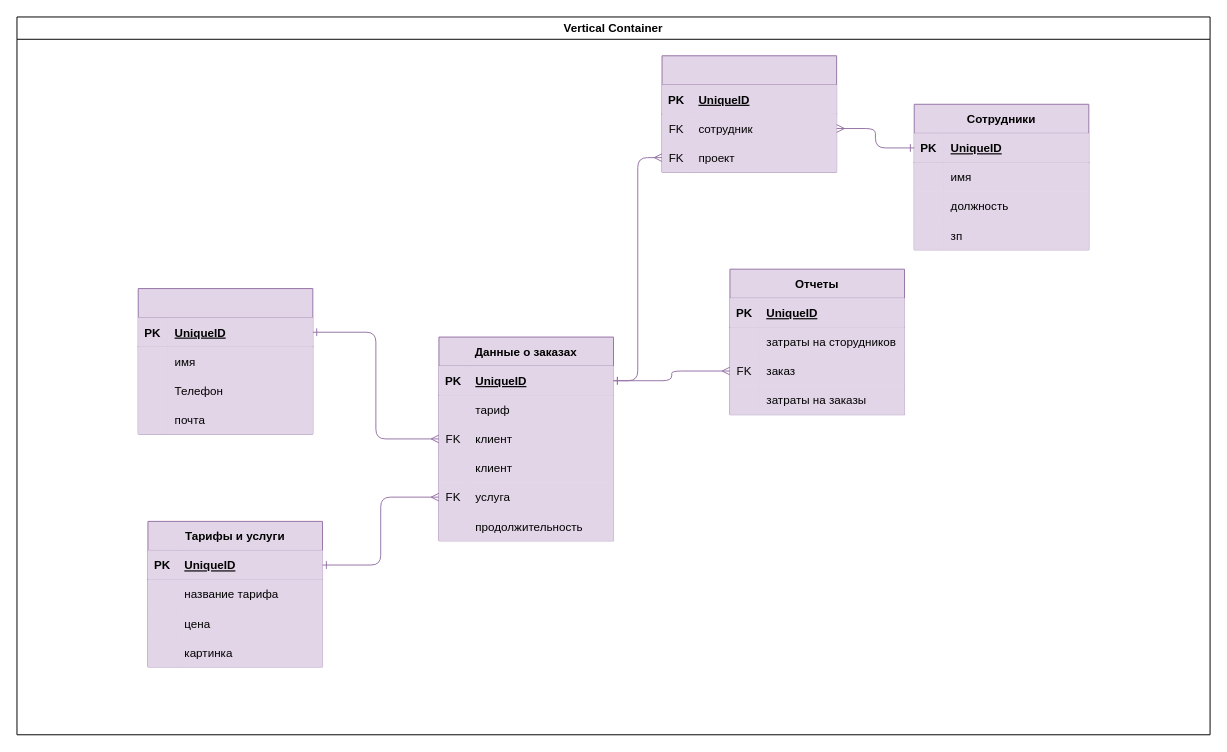
The diagram is 1227 pixels wide and 752 high, and some of its shapes have lost their labels. The shapes that lost their labels are listed below. From the top down, each one's box as (x1, y1, x2, y2) in pixels, then its label:
(661, 55, 837, 172): Сотрудники проекты
(137, 288, 313, 434): Данные о клиентах
